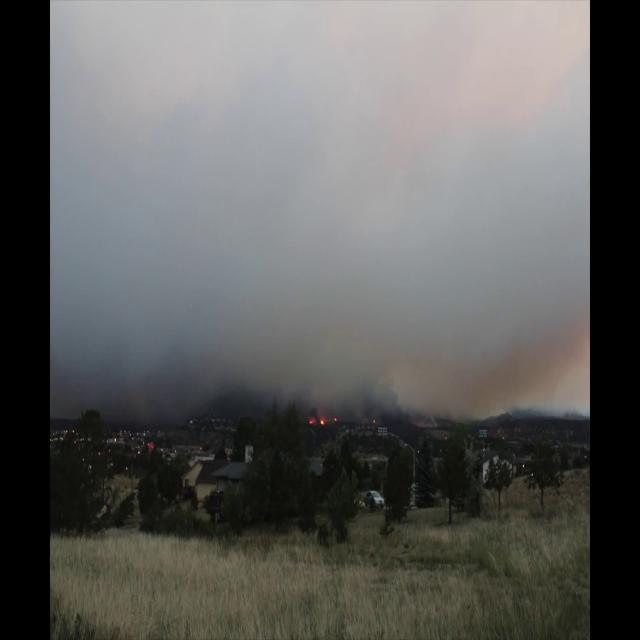Fire: (307, 416, 315, 424), (320, 418, 326, 426)
